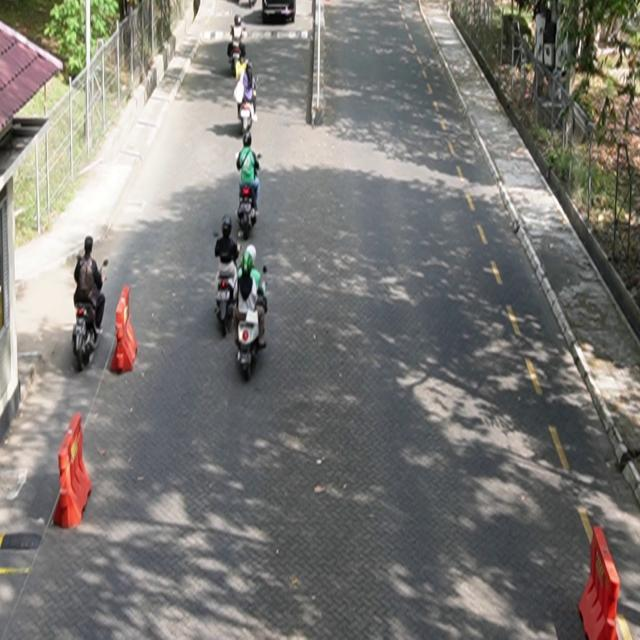car: (263, 1, 297, 24)
